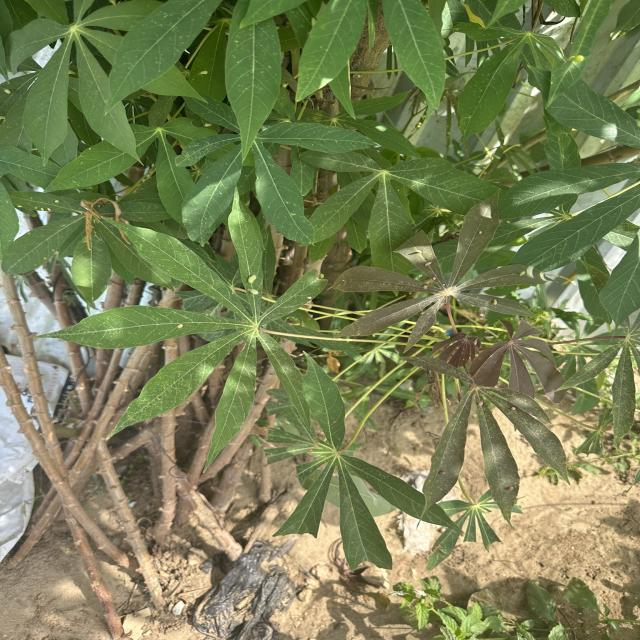Mosca: (15, 199, 54, 218), (245, 272, 262, 301), (503, 479, 521, 497), (474, 397, 490, 414), (435, 463, 449, 479), (503, 398, 519, 412), (173, 318, 186, 330)
